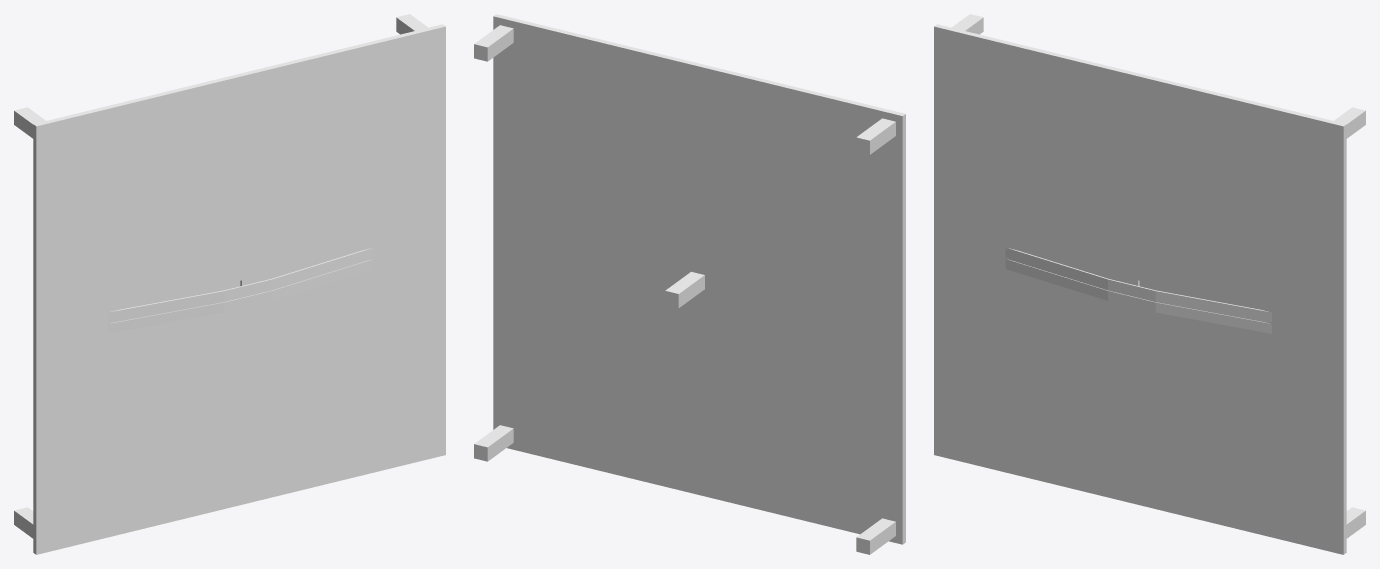
The model's file is white_base.obj.
3 renders of one model, left to right at view 1: azimuth 30°, elevation 25°; view 2: azimuth 150°, elevation 25°; view 3: azimuth 330°, elevation 25°, orthographic.
Parts seen in each view (by area): view 1: white_base; view 2: white_base; view 3: white_base.
Part boxes in pixels (x1,y1,x2,y2): white_base: (14, 14, 445, 554); white_base: (474, 14, 905, 554); white_base: (934, 14, 1365, 554).
Bounding box in the file's own units: 6 × 6 × 0.92.
